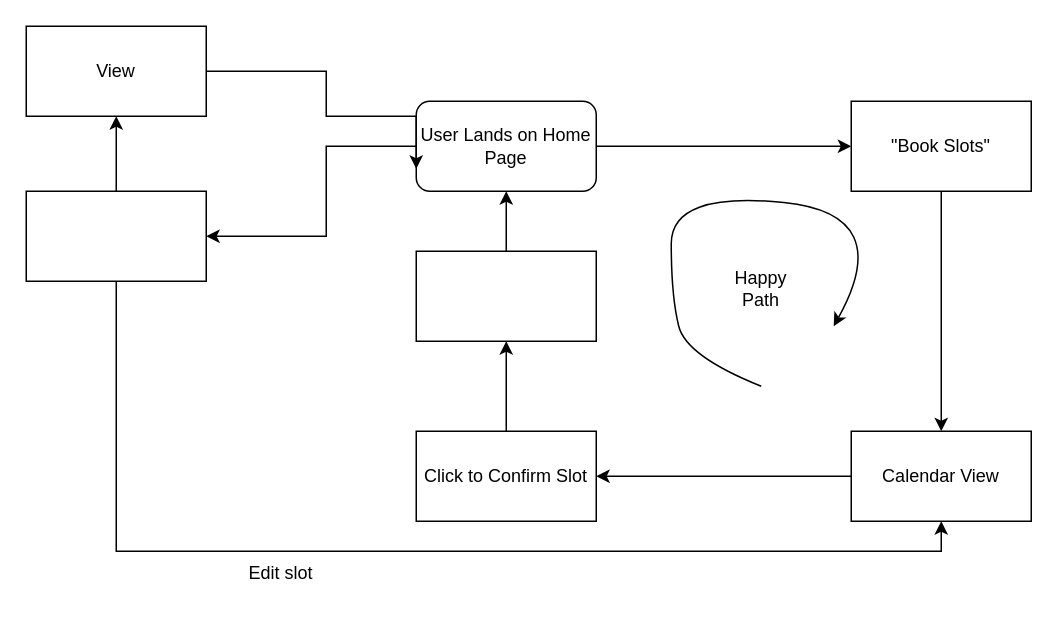
Some shapes in this 1058 by 623 pixel diagram are drawn without their labels. Here are the shapes that lost their labels. From the top down, the box of each, then its label:
(25, 190, 206, 281): View Reservation Status/Edit
(415, 250, 596, 341): Slot Booked
